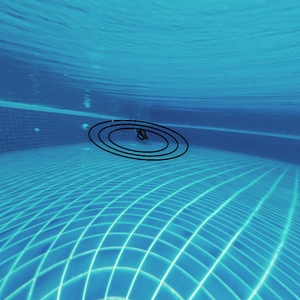circle: (85, 94, 202, 187)
submarine: (137, 126, 147, 141)
